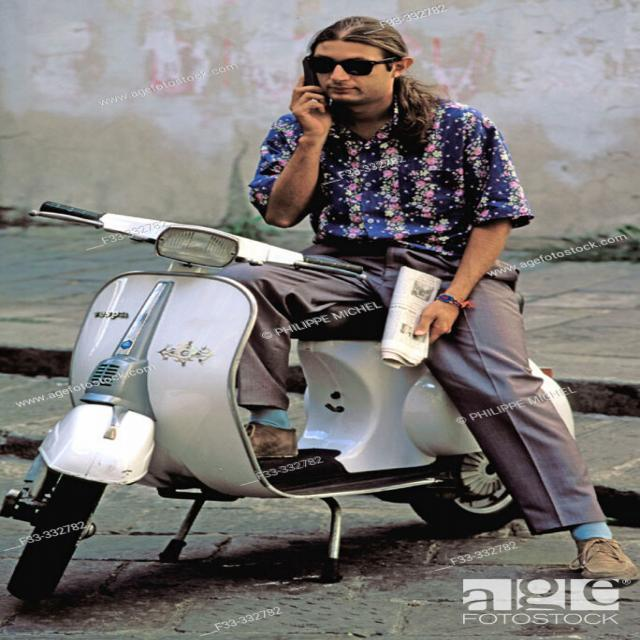No helmet: (314, 17, 417, 114)
Using mobile: (239, 2, 492, 248)
